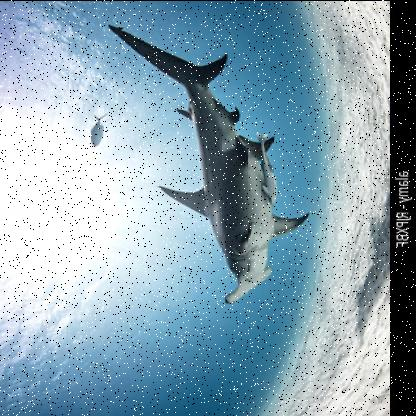hammerhead_Shark: (76, 15, 334, 331)
